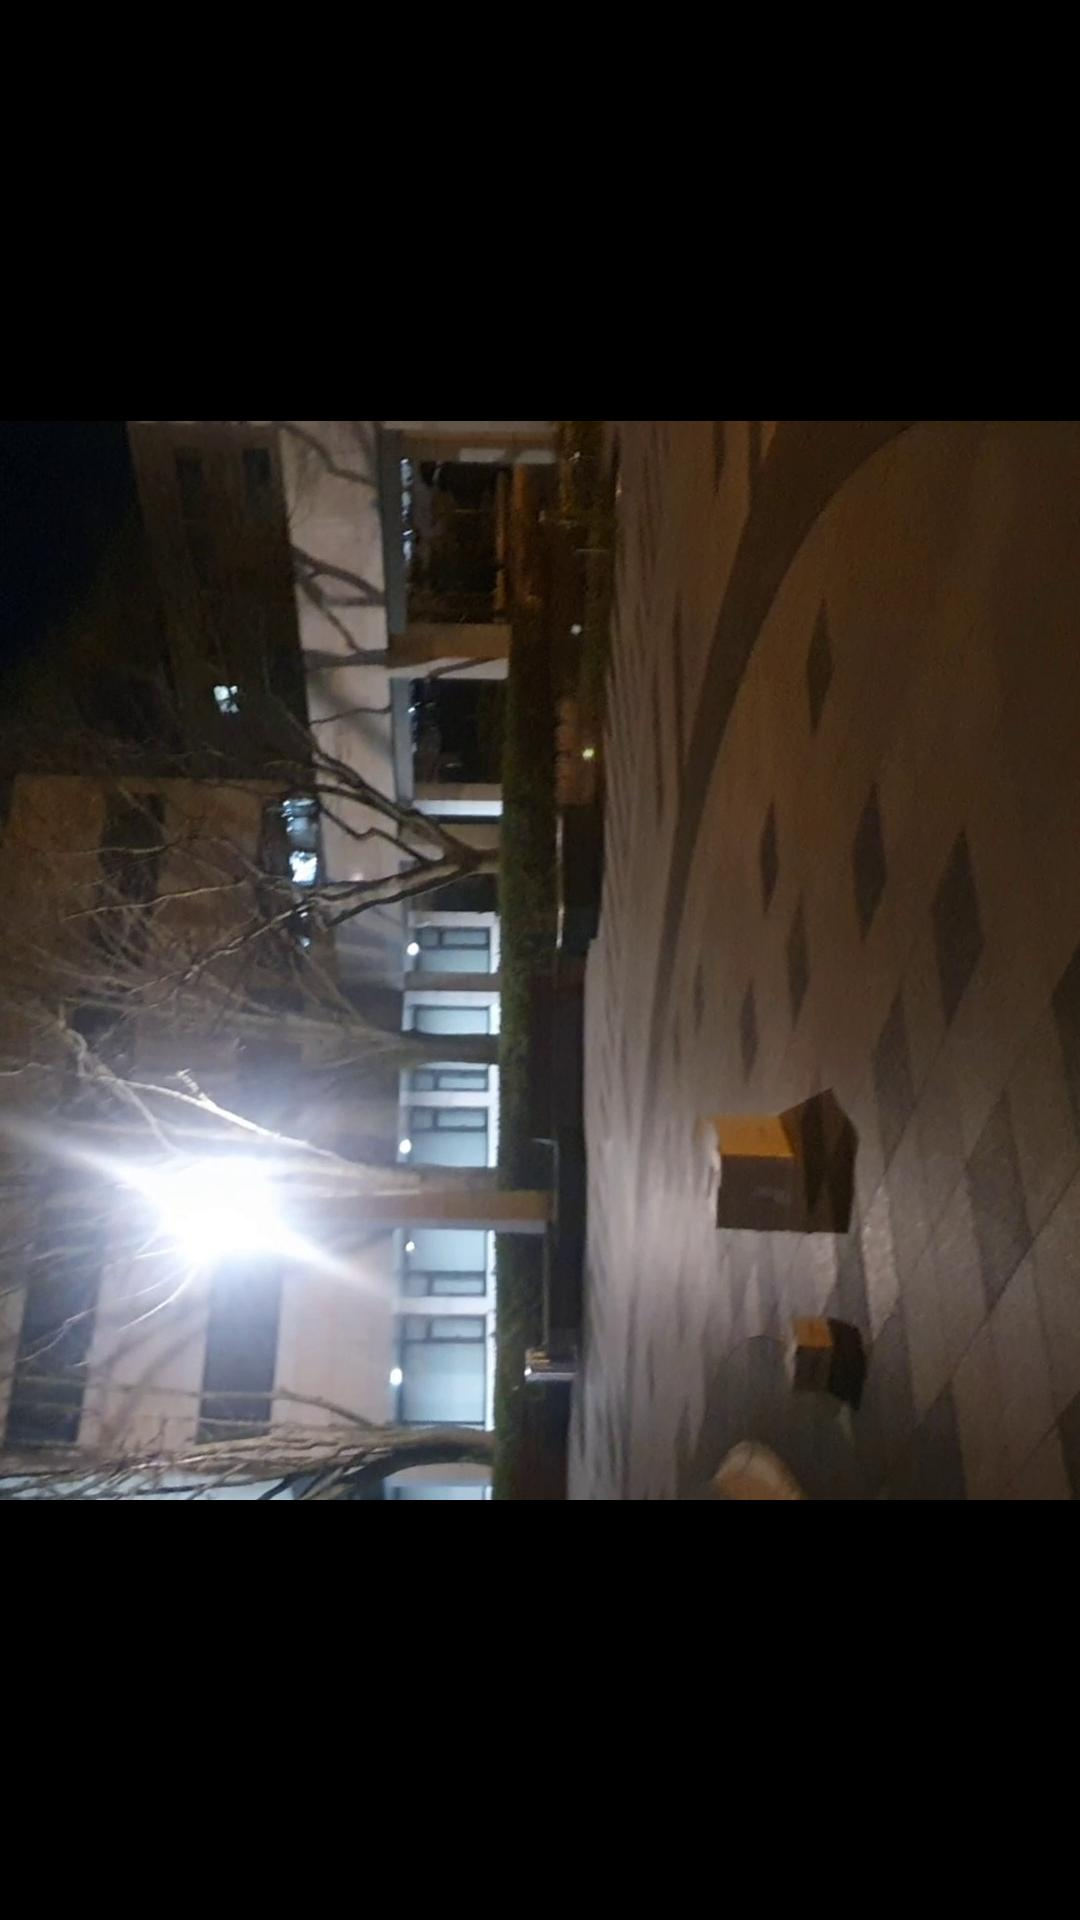Box: (688, 1116, 829, 1244), (770, 1313, 851, 1393)
